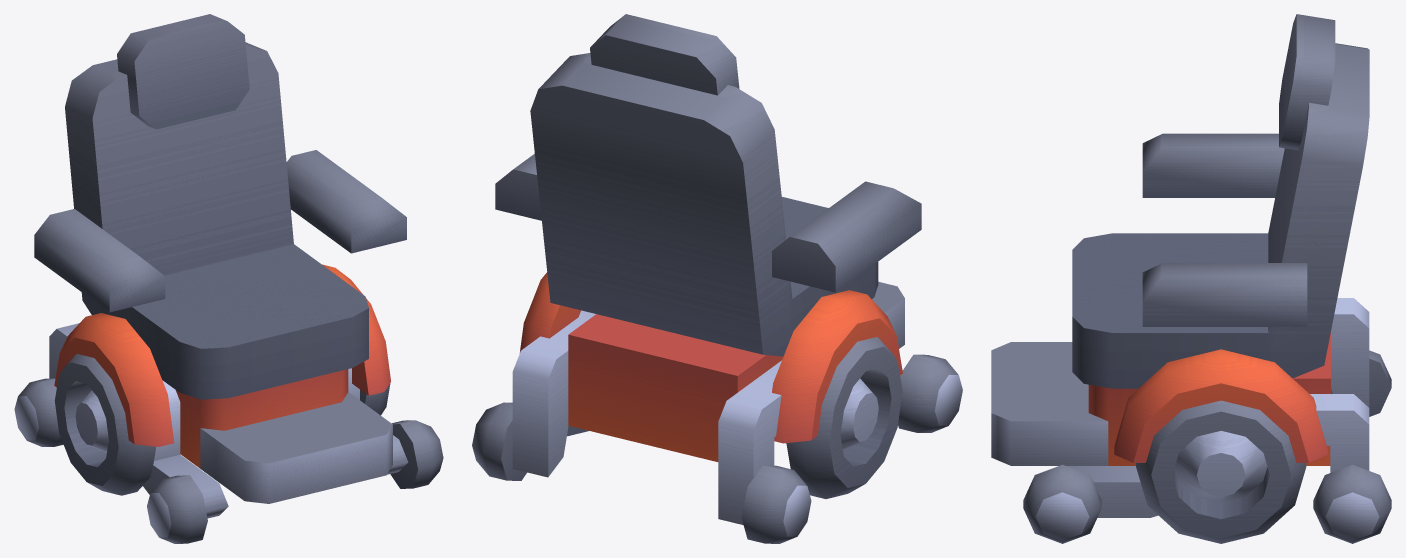
Rendered from wheelchair-power-deluxe.glb.
3 renders of one model, left to right at view 1: azimuth 30°, elevation 25°; view 2: azimuth 150°, elevation 25°; view 3: azimuth 270°, elevation 25°, orthographic. The views are drawn at different scales.
Parts seen in each view (by area): view 1: wheelchair-power-deluxe; view 2: wheelchair-power-deluxe; view 3: wheelchair-power-deluxe.
Boxes of the visible parts, x1=… form: wheelchair-power-deluxe: x1=14, y1=14, x2=443, y2=543; wheelchair-power-deluxe: x1=472, y1=14, x2=962, y2=543; wheelchair-power-deluxe: x1=991, y1=14, x2=1391, y2=543.
Size of the model in its own units: 0.48 by 0.6253 by 0.5109.
Materials: 1 (1 with a texture image).
